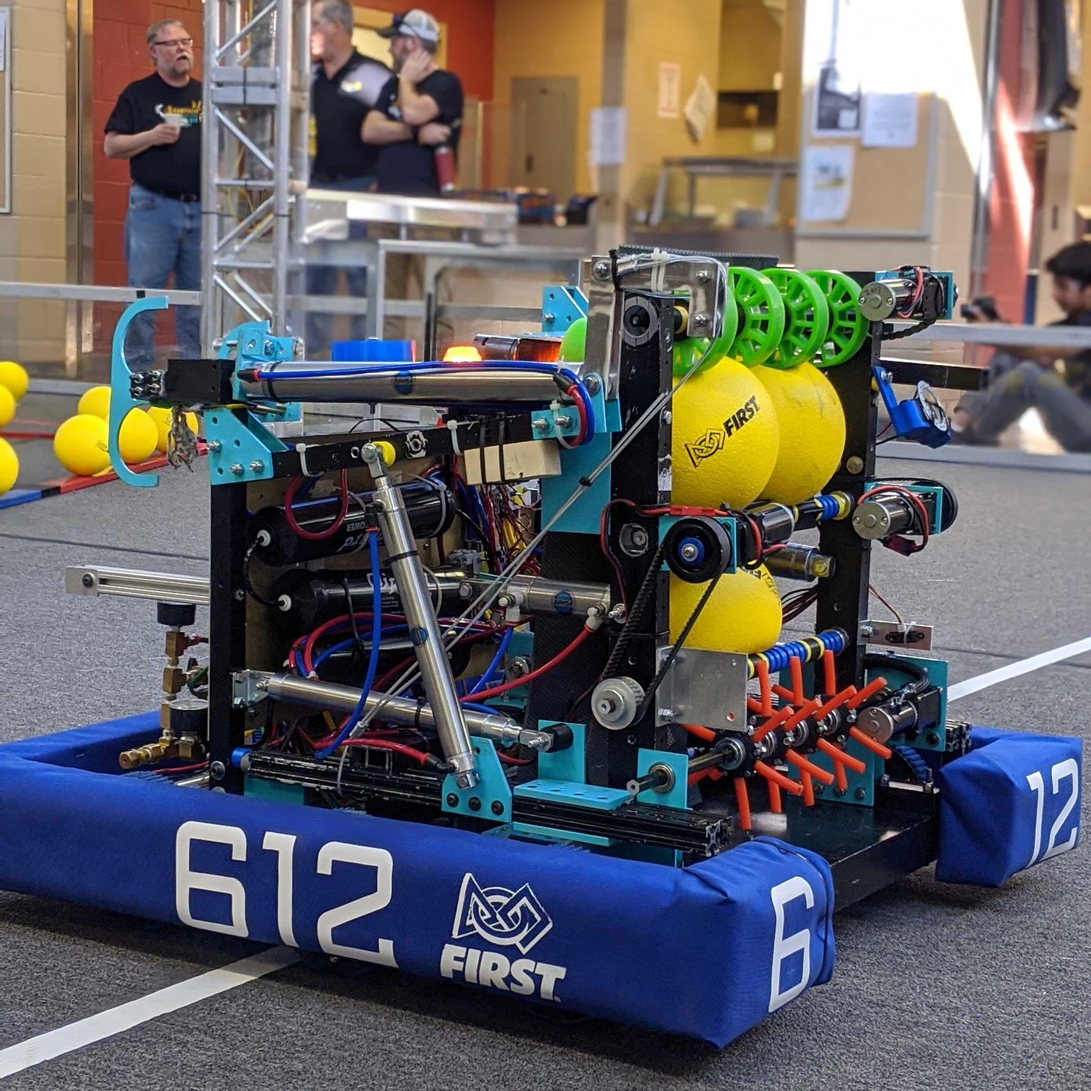robot: (0, 244, 1090, 1059)
